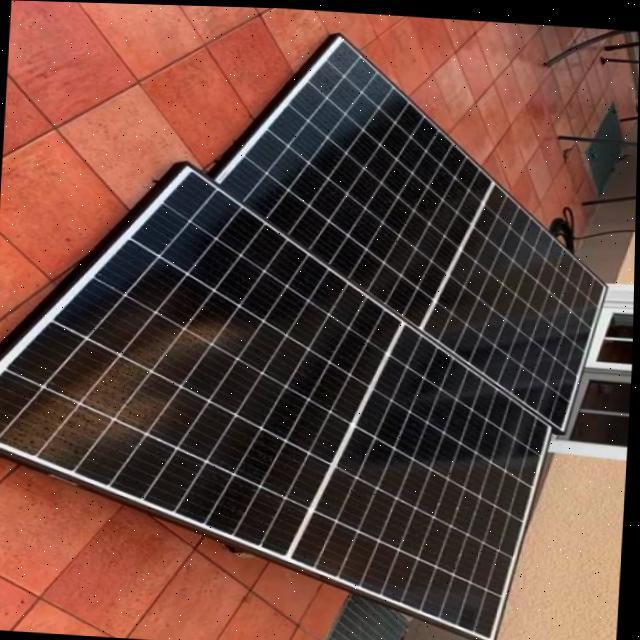Normal Solar Panel: (0, 152, 564, 632), (202, 24, 618, 428)
